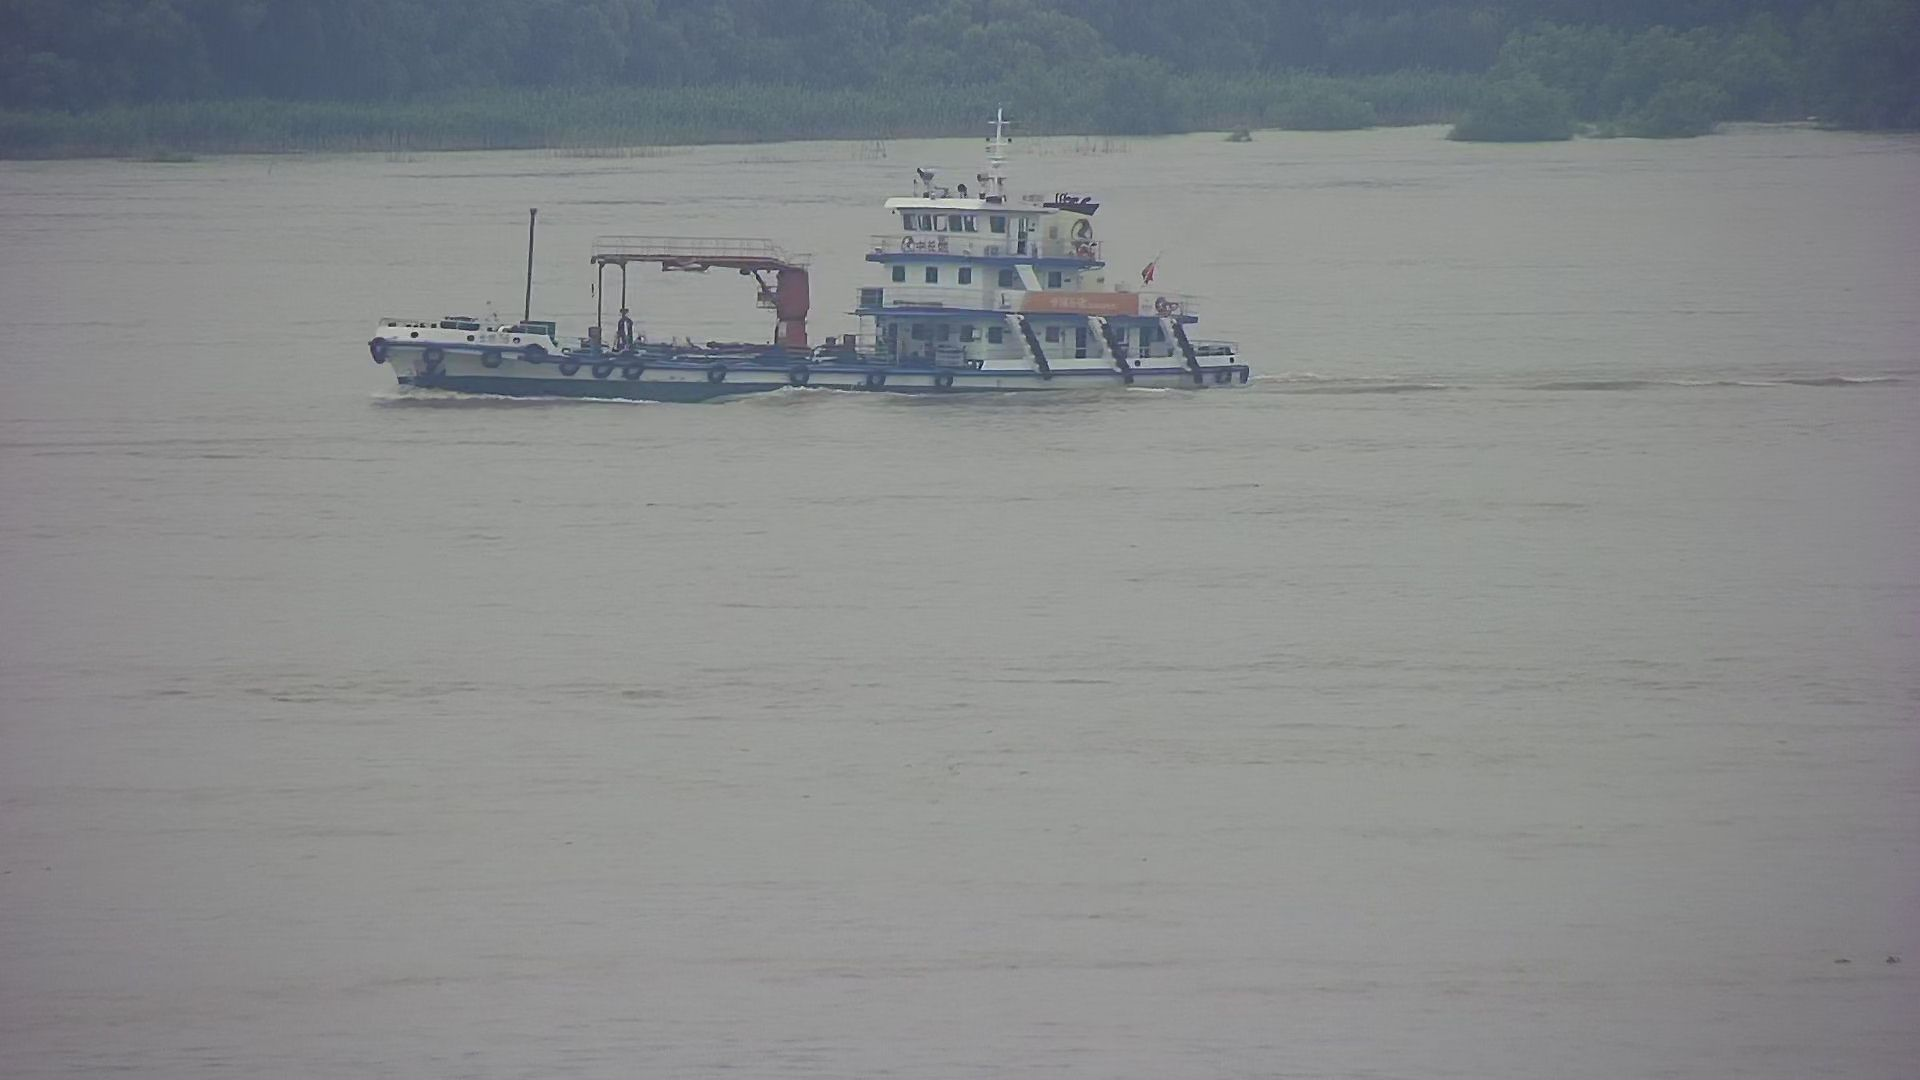ship: (347, 105, 1295, 423)
